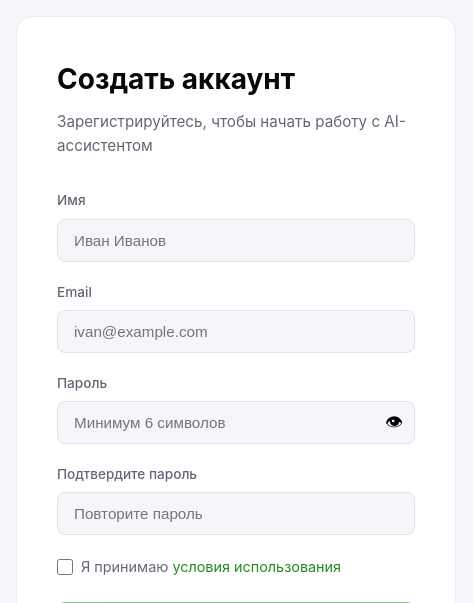
Scenario: RegisterView › shows password mismatch error
The image size is (473, 603).
In the password field labelled "Пароль": (236, 422) [57, 401, 415, 444], type "123456"
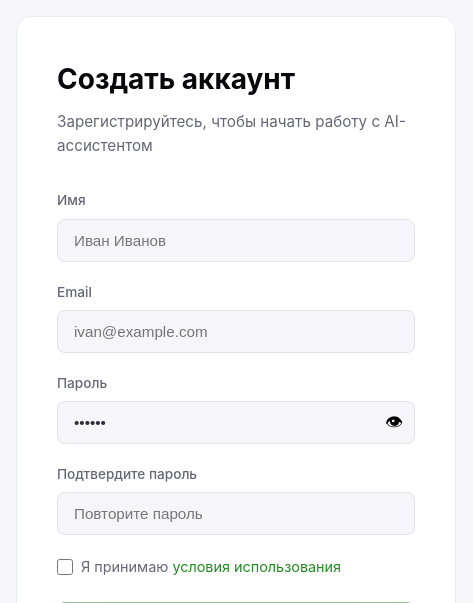
In the password field with id "confirm": (236, 514) [57, 492, 415, 535], type "654321"
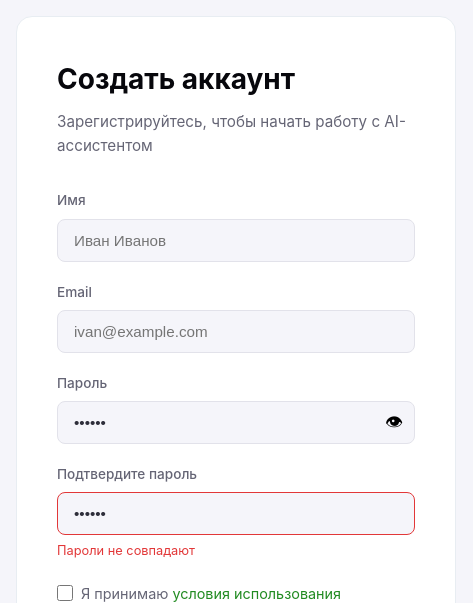
Now the text with class "field-error" reads "Пароли не совпадают", box [57, 543, 195, 558]
